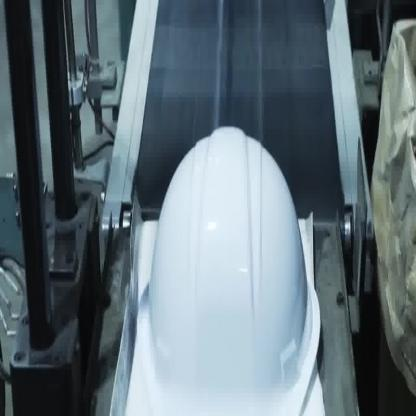helmet: (136, 125, 322, 415)
